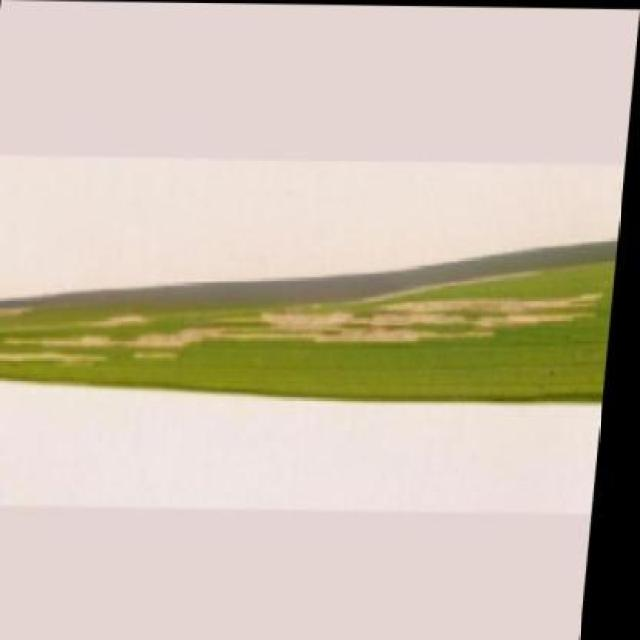Brown_Spot: (0, 240, 622, 409)
